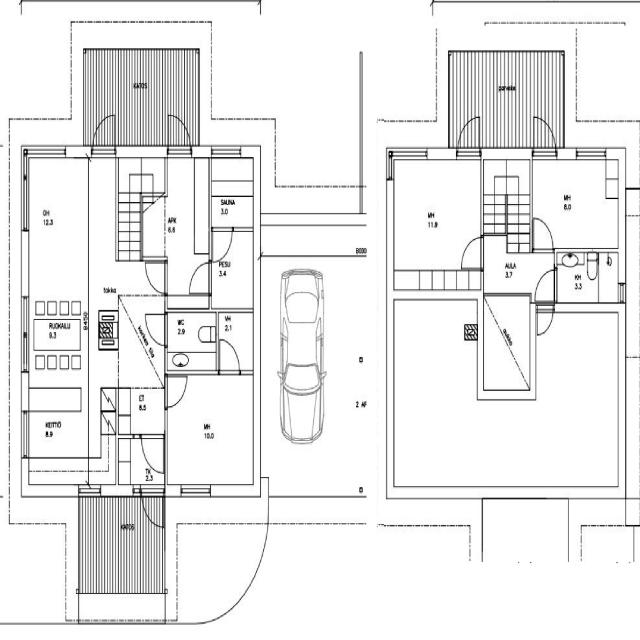door: (90, 110, 117, 160), (166, 114, 196, 156), (139, 431, 166, 477), (530, 115, 558, 156), (456, 112, 482, 156), (530, 211, 556, 254), (458, 232, 485, 272), (186, 257, 212, 298), (140, 491, 166, 532), (143, 256, 169, 296), (164, 369, 190, 408), (144, 309, 169, 347), (209, 224, 234, 262), (534, 296, 556, 339), (217, 337, 241, 375), (534, 266, 558, 304)
window: (389, 142, 454, 164), (18, 154, 33, 235), (17, 298, 32, 373), (18, 384, 32, 461), (26, 139, 70, 159), (177, 479, 214, 501), (572, 145, 606, 162), (423, 144, 457, 160), (77, 477, 103, 497), (383, 151, 397, 184)
zone: (388, 153, 483, 295), (165, 373, 256, 489), (26, 151, 89, 318), (530, 154, 620, 249), (26, 353, 91, 482), (484, 289, 534, 398), (279, 269, 323, 380), (552, 249, 621, 306), (210, 150, 256, 228), (165, 306, 216, 374), (212, 230, 252, 310), (31, 313, 83, 364), (625, 189, 640, 218)
